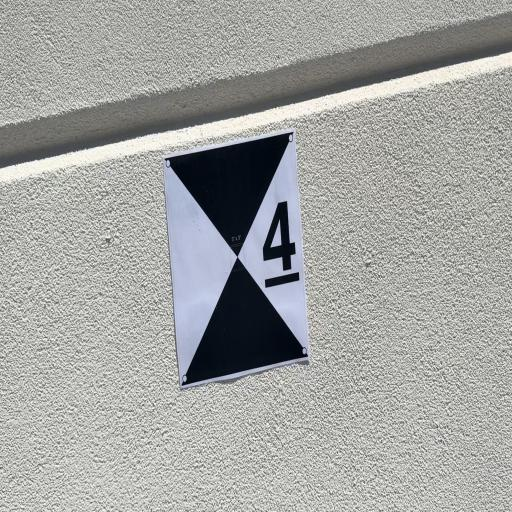target4: (164, 128, 312, 390)
